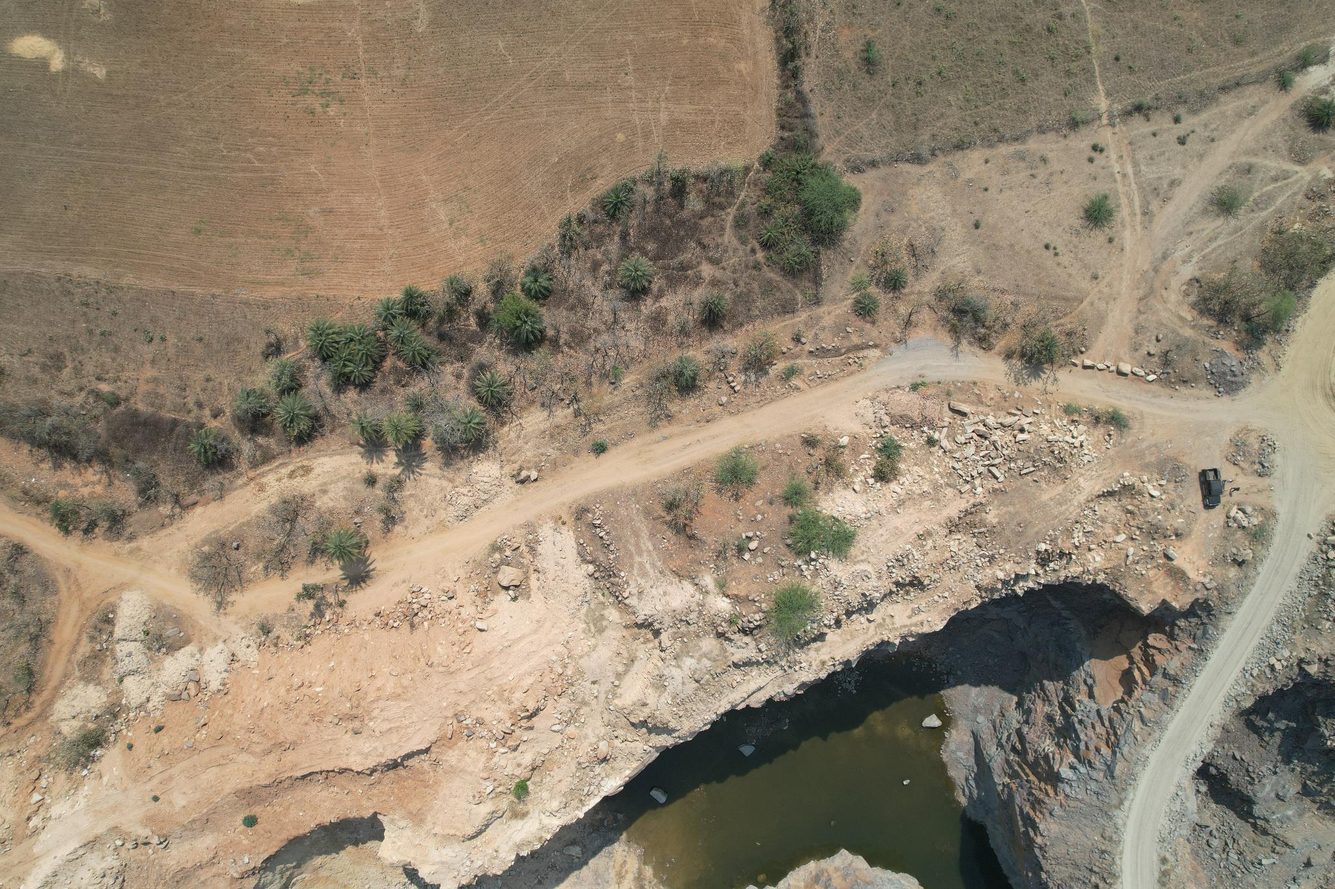benches: (1047, 273, 1335, 889), (397, 336, 1044, 564)
truck: (1203, 458, 1232, 511)
